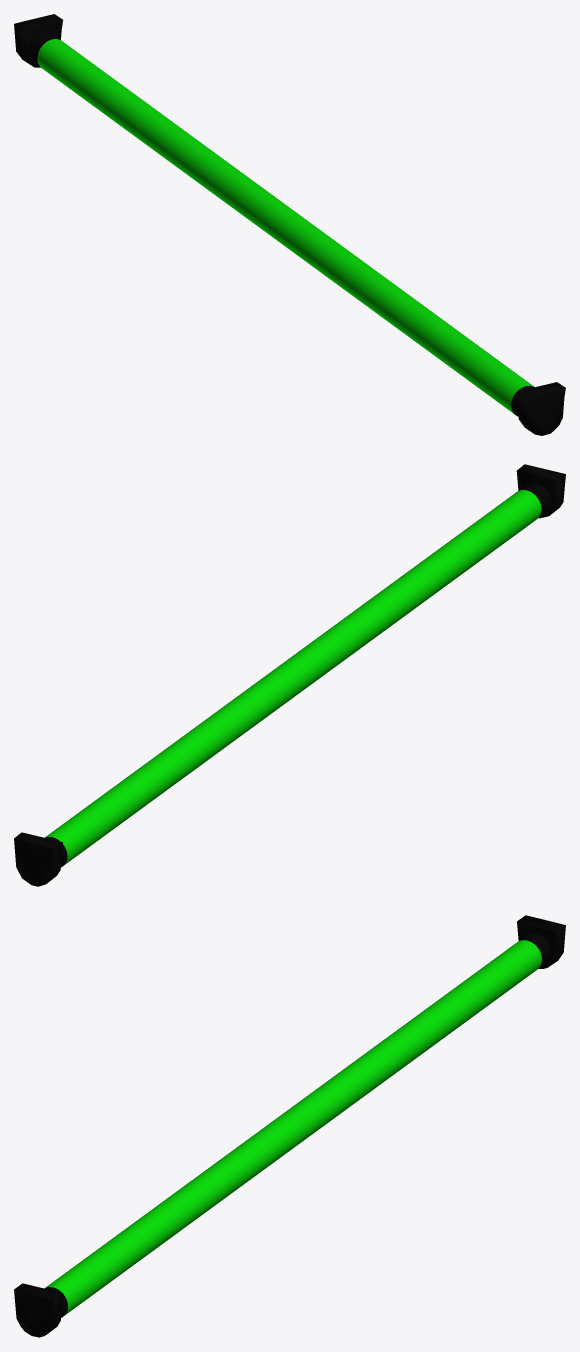
Rendered from SM_Tubelamp_Single.fbx.
The picture shows the model from 3 angles, top to bottom: view 1: azimuth 30°, elevation 25°; view 2: azimuth 150°, elevation 25°; view 3: azimuth 330°, elevation 25°; orthographic projection.
Visible parts, largest first — view 1: SM_TubeLight_Single; view 2: SM_TubeLight_Single; view 3: SM_TubeLight_Single.
Part boxes in pixels (box(x1,y1,x2,y2)): SM_TubeLight_Single: box(14, 14, 565, 435); SM_TubeLight_Single: box(14, 464, 565, 886); SM_TubeLight_Single: box(14, 915, 565, 1337).
Bounding box in the file's own units: 8.58 × 8.48 × 185.
